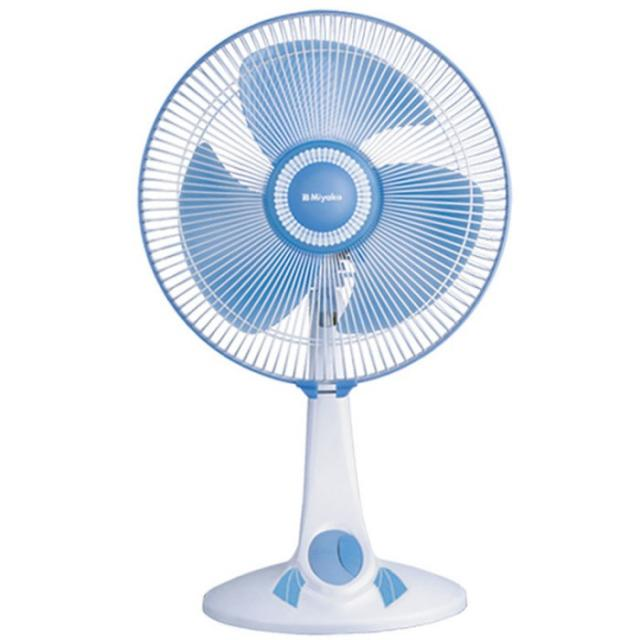fan: (133, 2, 516, 640)
